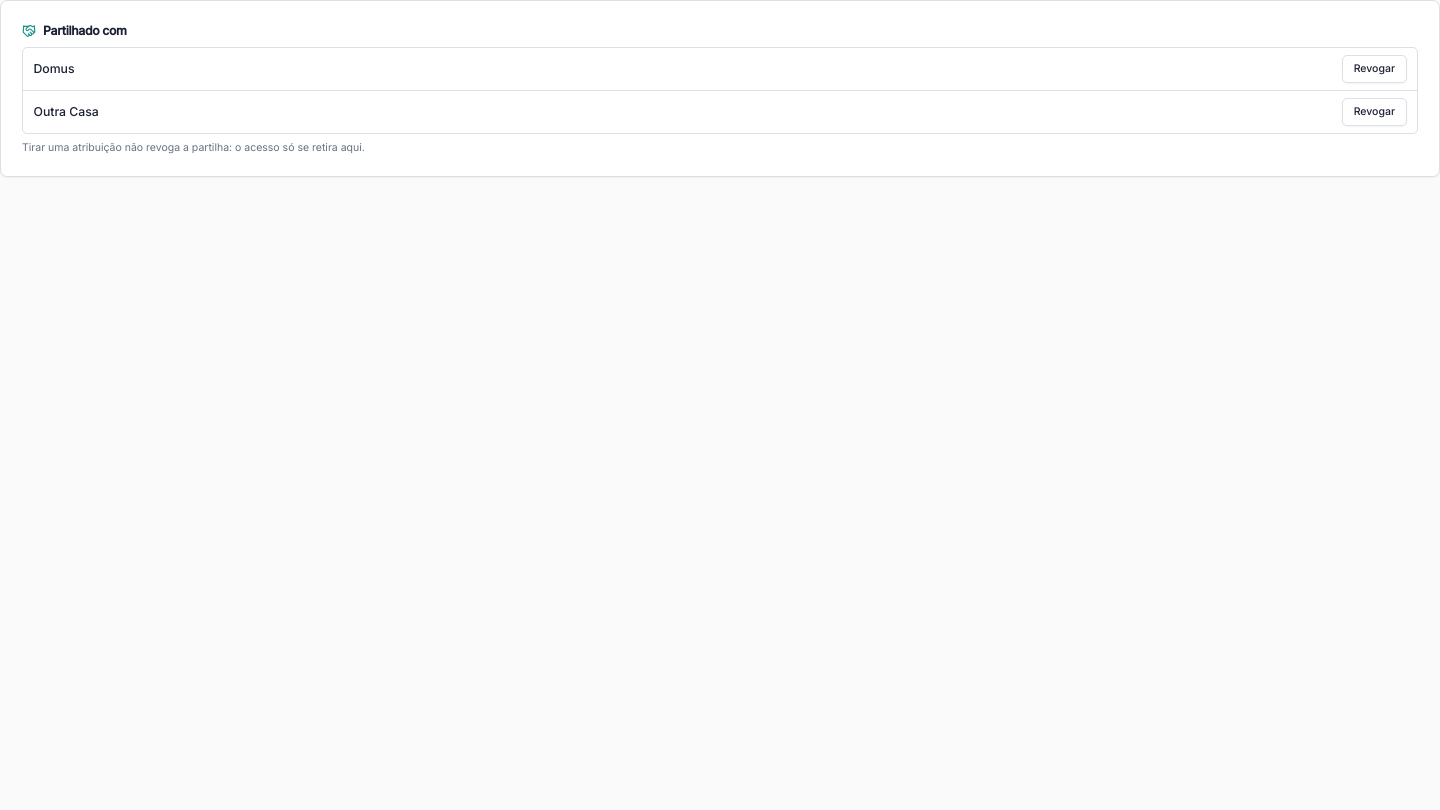
Scenario: PartilhaCard › cancelar não revoga nada
Click the button with aria-label "Revogar partilha com Domus" at [1374, 68], box [1342, 54, 1406, 82]
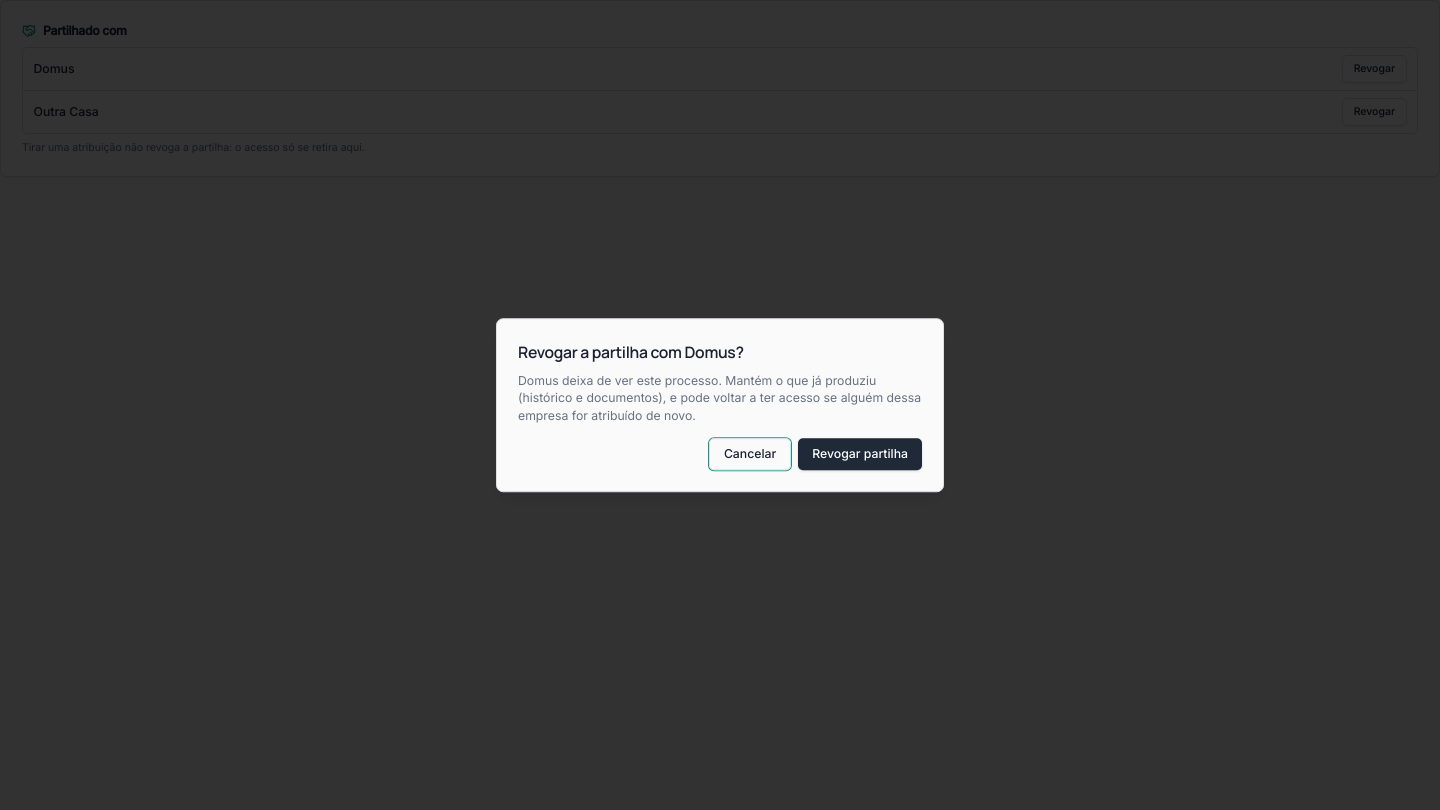
Click the button "Cancelar" at [750, 454], box [709, 438, 791, 470]
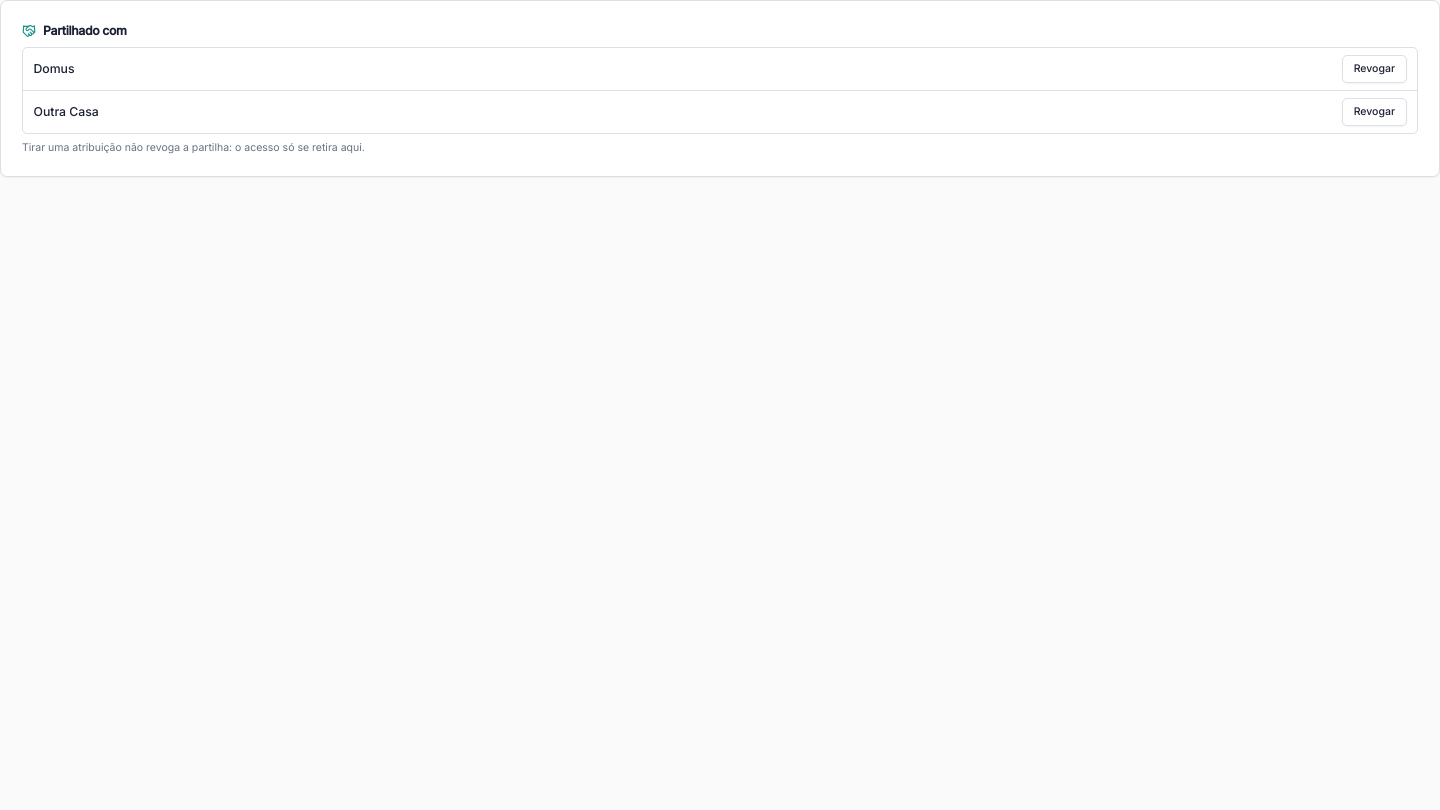
Expected: the dialog with test id "dialogo-revogar-partilha" is gone
